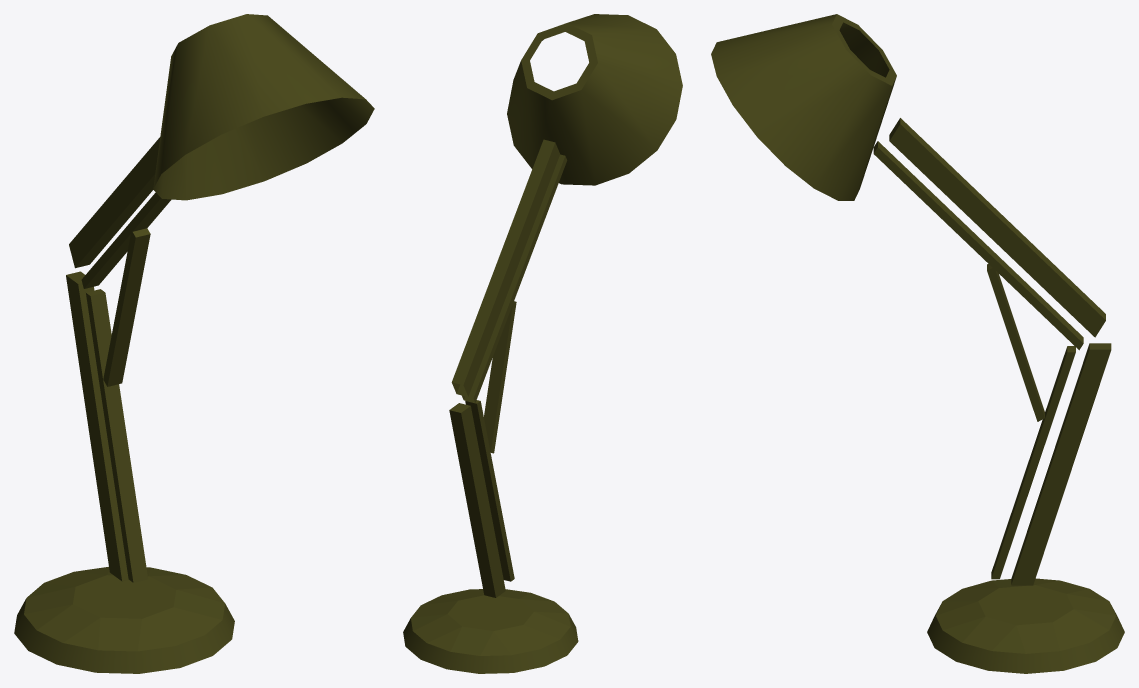
The model's file is blockout_Lamp.fbx.
3 views of the same model, side by side, from view 1: azimuth 30°, elevation 25°; view 2: azimuth 150°, elevation 25°; view 3: azimuth 270°, elevation 25° (orthographic). The views are drawn at different scales.
Visible parts, largest first — view 1: blockout_Lamp; view 2: blockout_Lamp; view 3: blockout_Lamp.
Part boxes in pixels (left/top/right/bottom): blockout_Lamp: left=14, top=14, right=374, bottom=673; blockout_Lamp: left=403, top=14, right=682, bottom=673; blockout_Lamp: left=711, top=14, right=1124, bottom=673.
Size of the model in its own units: 29.87 by 96.01 by 58.72.
Materials: 1 (1 with a texture image).
